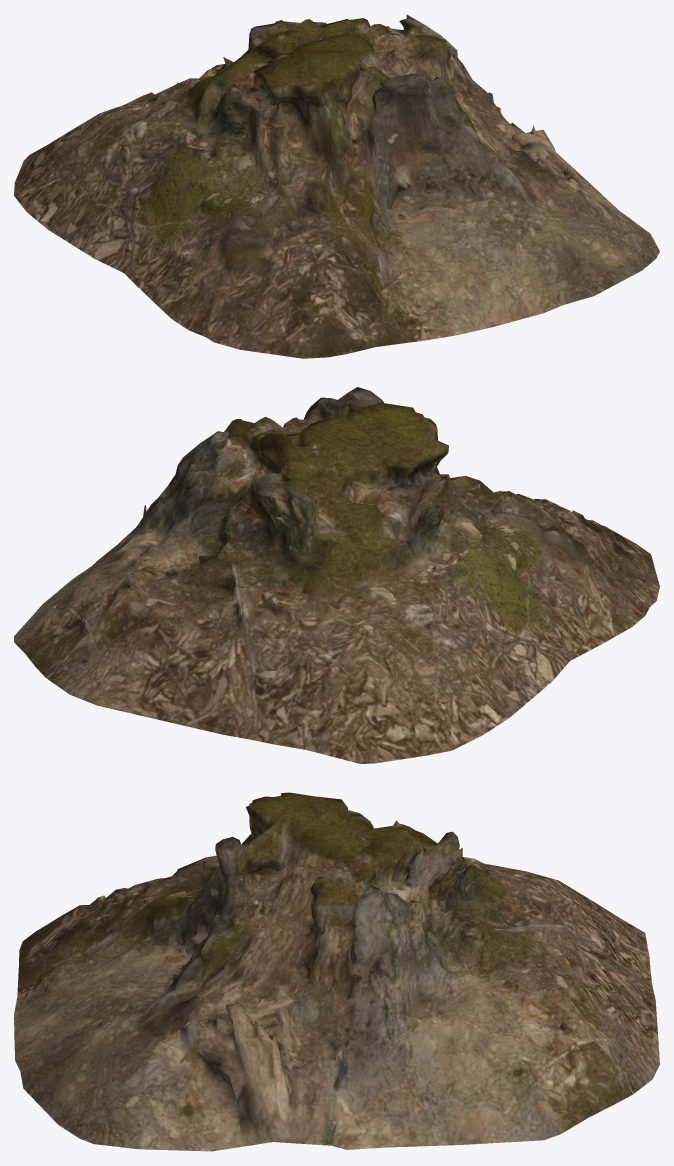
File: tree-stump-01.glb
3 renders of one model, top to bottom at view 1: azimuth 30°, elevation 25°; view 2: azimuth 150°, elevation 25°; view 3: azimuth 270°, elevation 25°, orthographic. The views are drawn at different scales.
Parts seen in each view (by area): view 1: tree_stump_01; view 2: tree_stump_01; view 3: tree_stump_01.
Boxes of the visible parts, bbox=[...] form: tree_stump_01: bbox=[14, 14, 659, 358]; tree_stump_01: bbox=[14, 387, 659, 763]; tree_stump_01: bbox=[14, 792, 659, 1151].
Size of the model in its own units: 1.43 by 0.57 by 1.59.
1 material, 1 textured.
